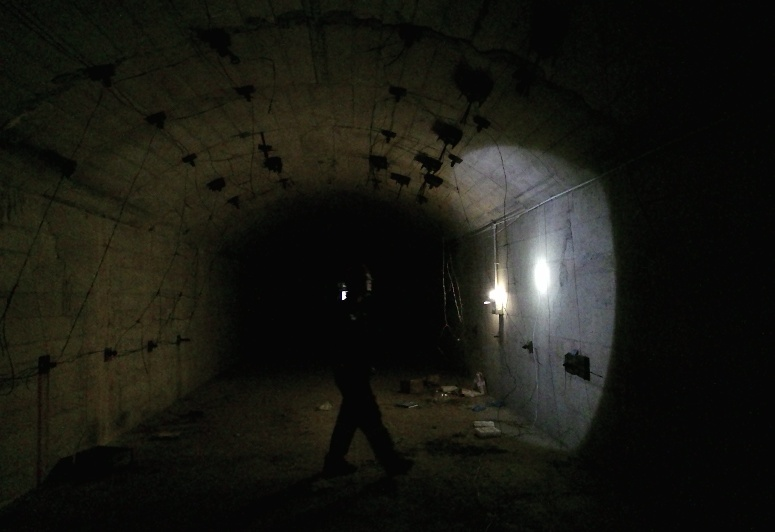person: (313, 262, 393, 479)
